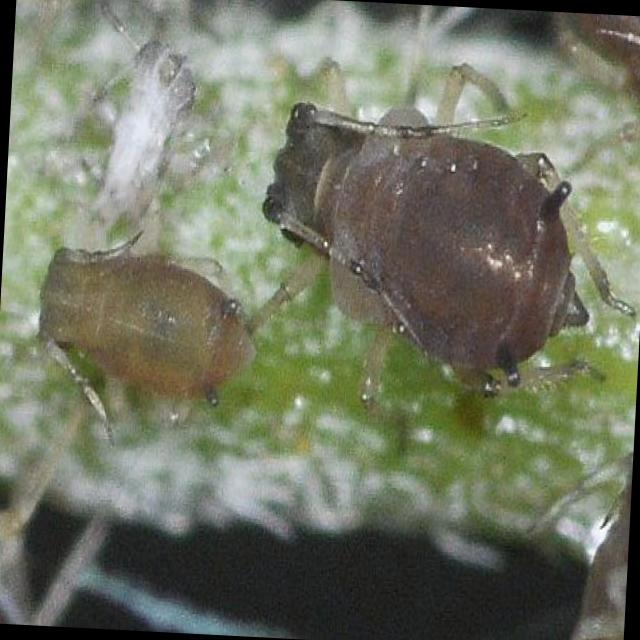Aphids: (203, 48, 640, 403), (13, 241, 277, 434)
